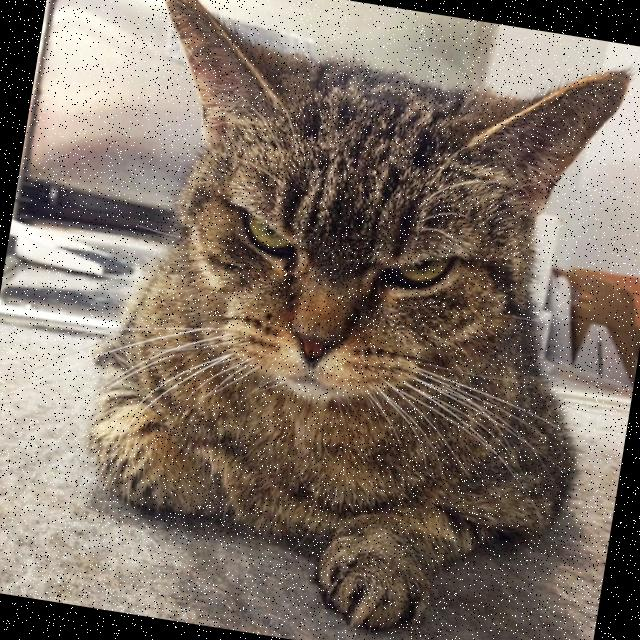Angry: (138, 127, 515, 449)
